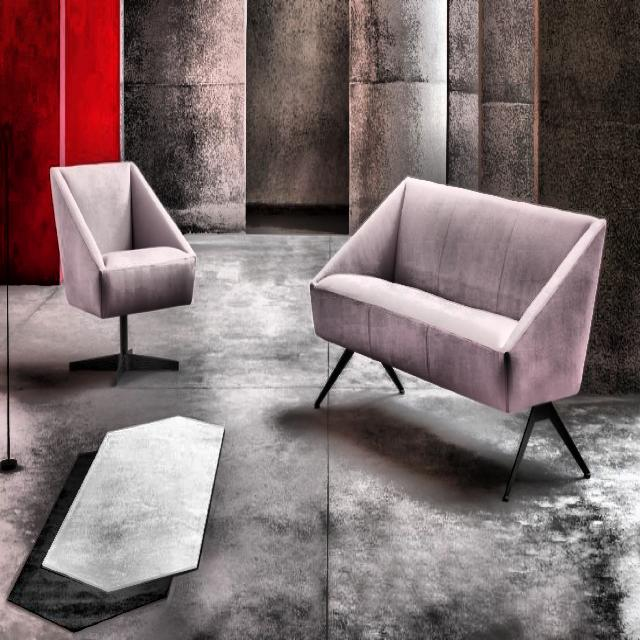sofa: (309, 173, 607, 502), (49, 159, 196, 385)
